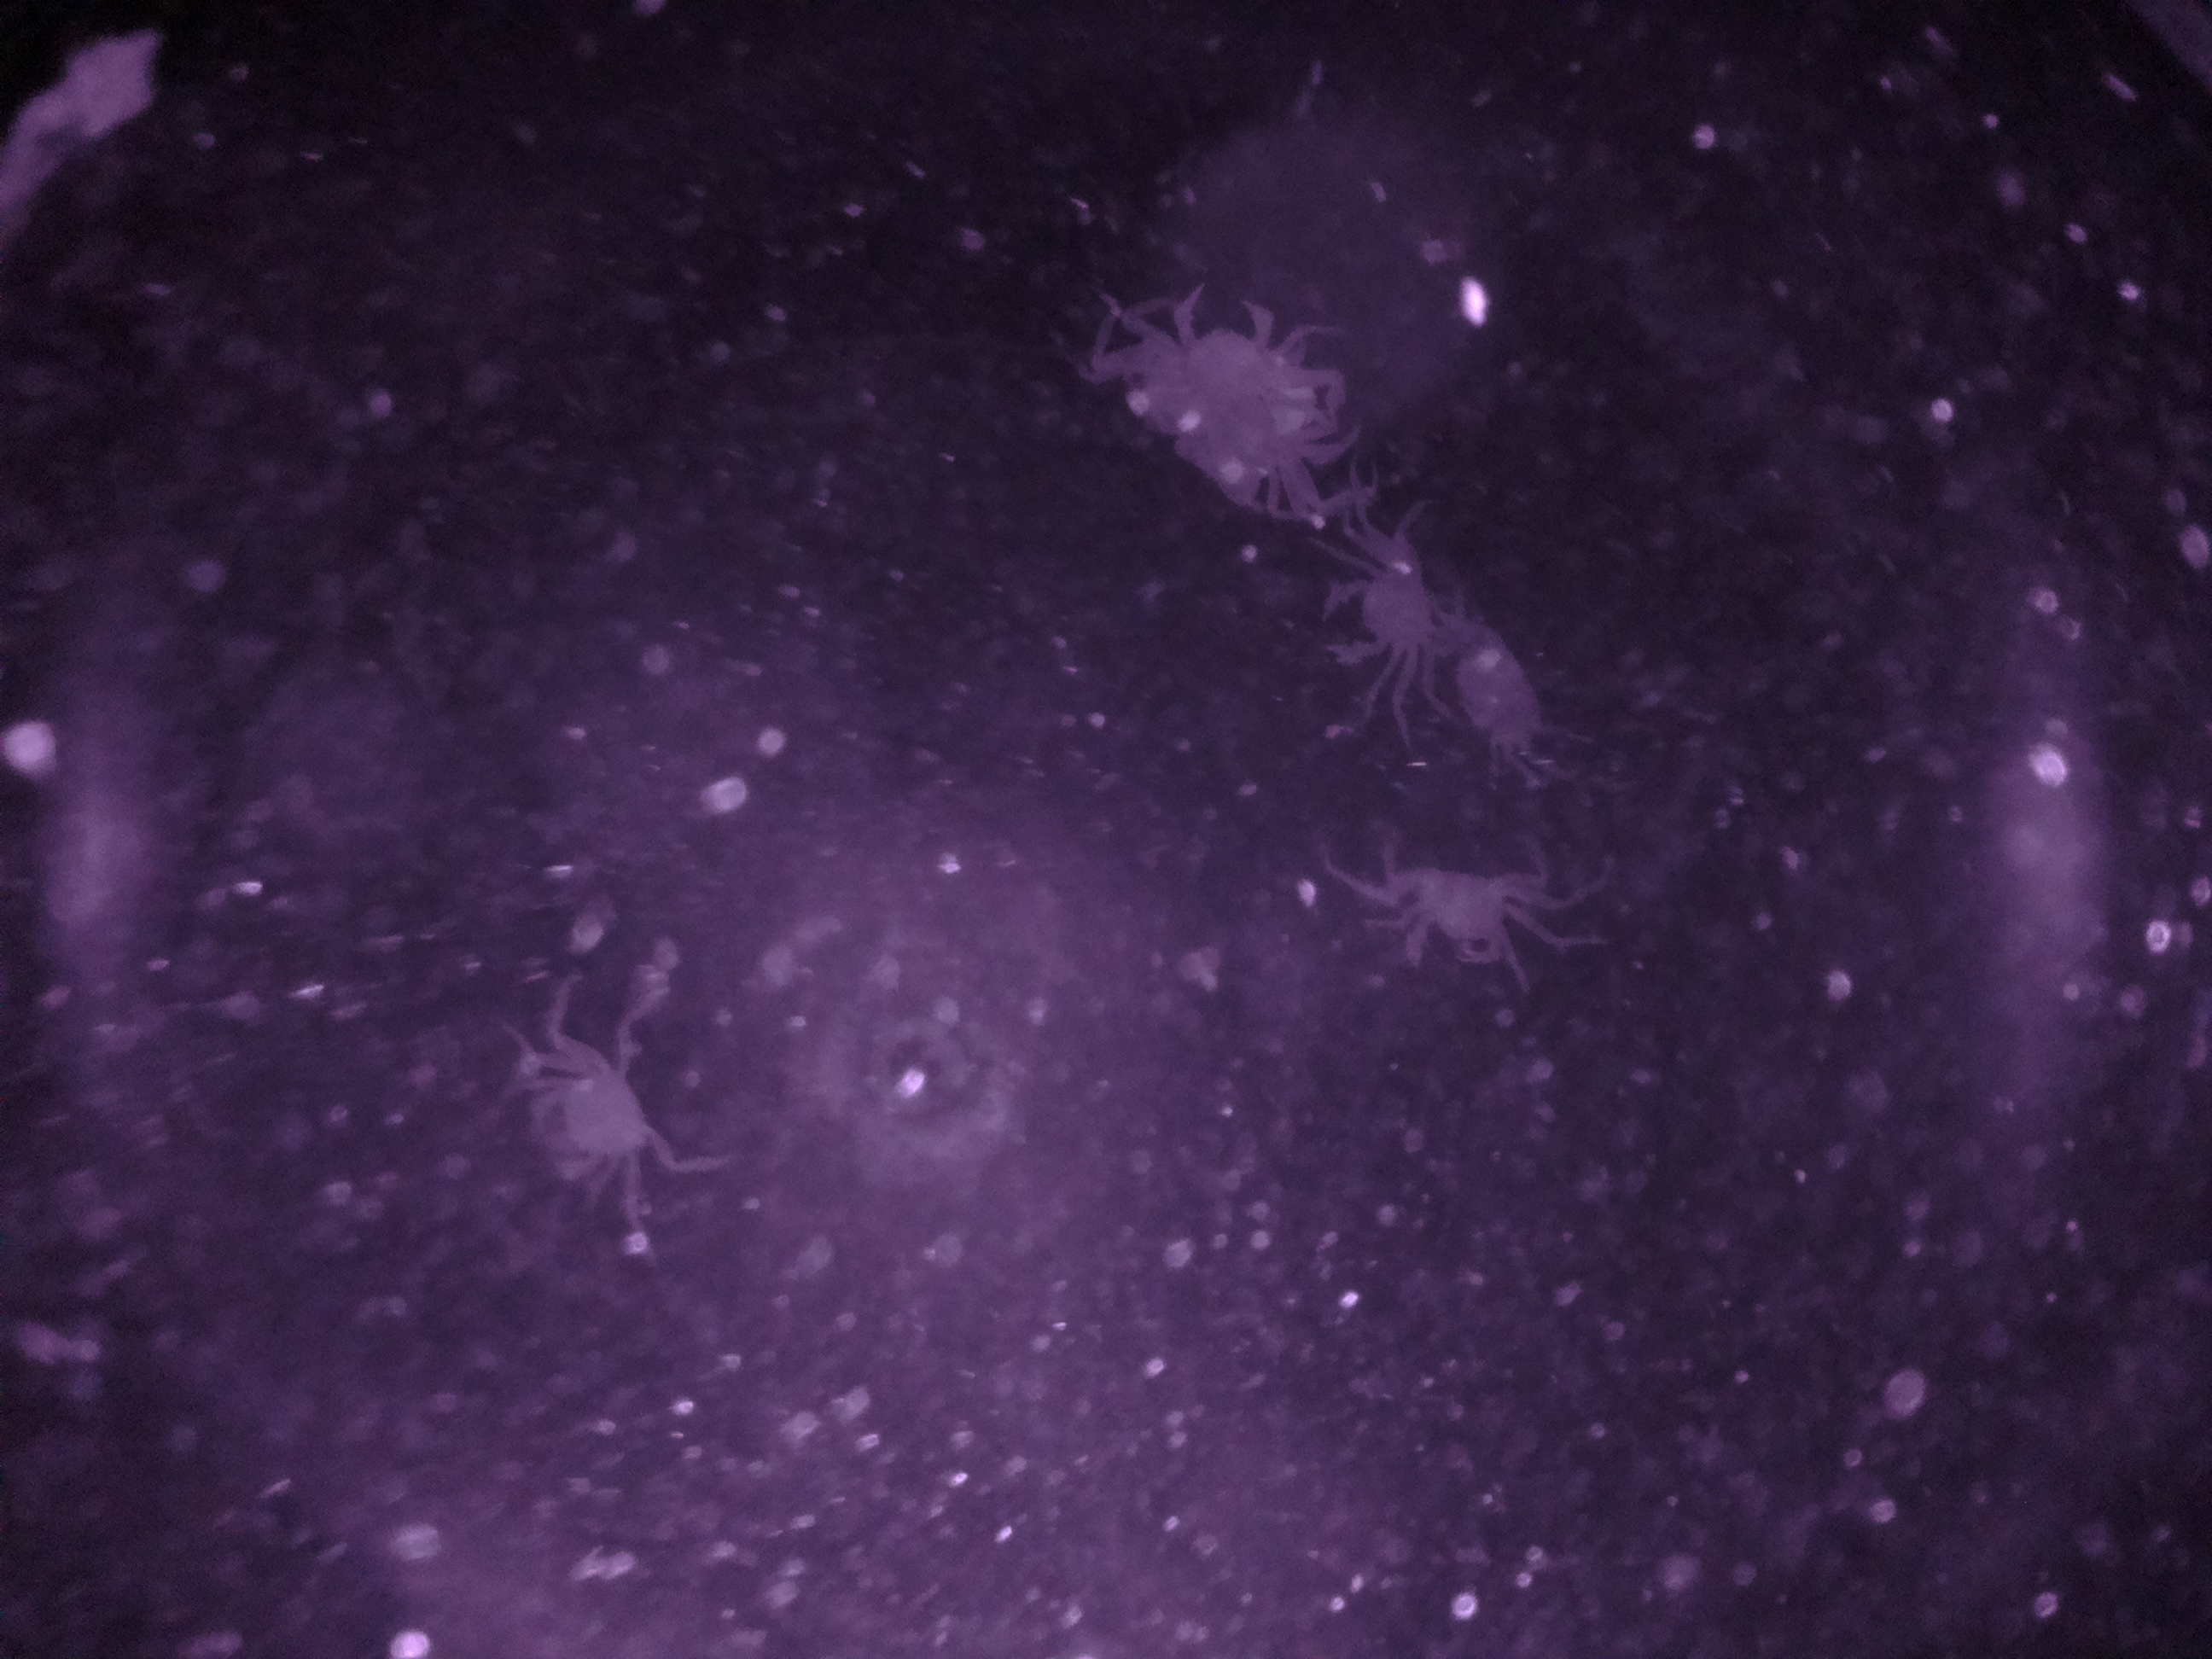Crab: (503, 1016, 697, 1211), (1312, 518, 1461, 706), (1339, 852, 1561, 974)
